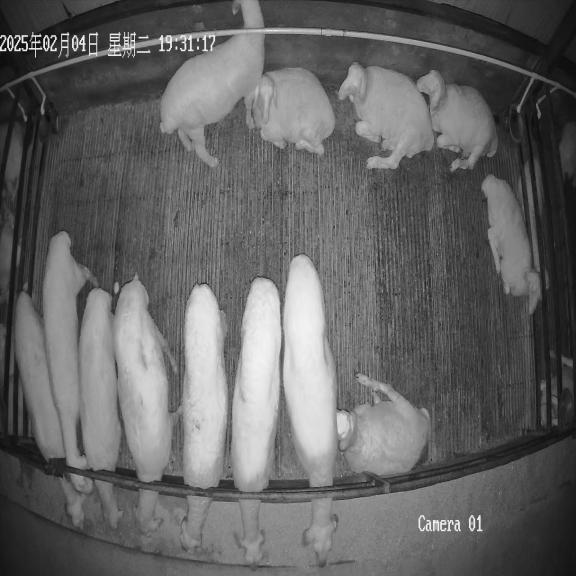eating: (113, 274, 182, 533), (282, 254, 338, 566), (15, 291, 86, 528), (231, 277, 281, 565), (180, 284, 228, 551), (79, 273, 122, 528)
lying: (338, 62, 434, 169), (337, 374, 433, 476), (416, 70, 498, 172), (482, 174, 540, 315), (252, 68, 335, 155)
stand: (160, 0, 264, 167), (43, 231, 99, 495)
